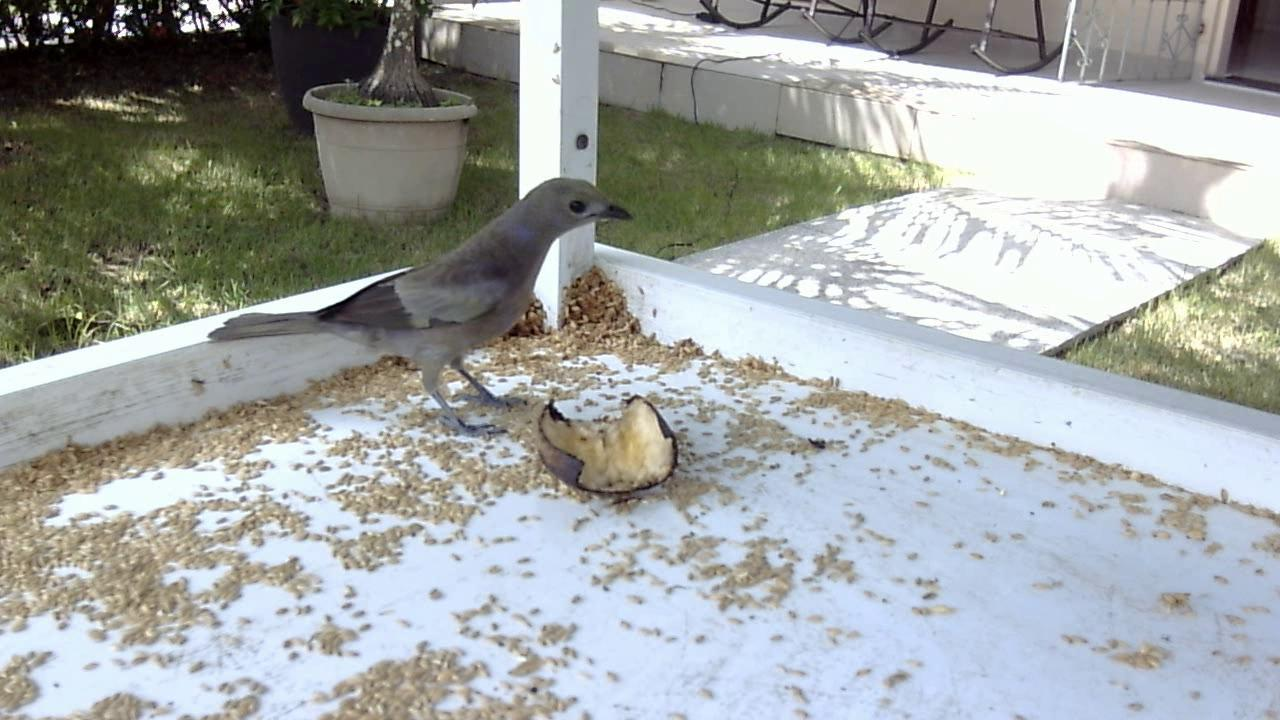sanhaco_do_coqueiro: (211, 165, 638, 472)
